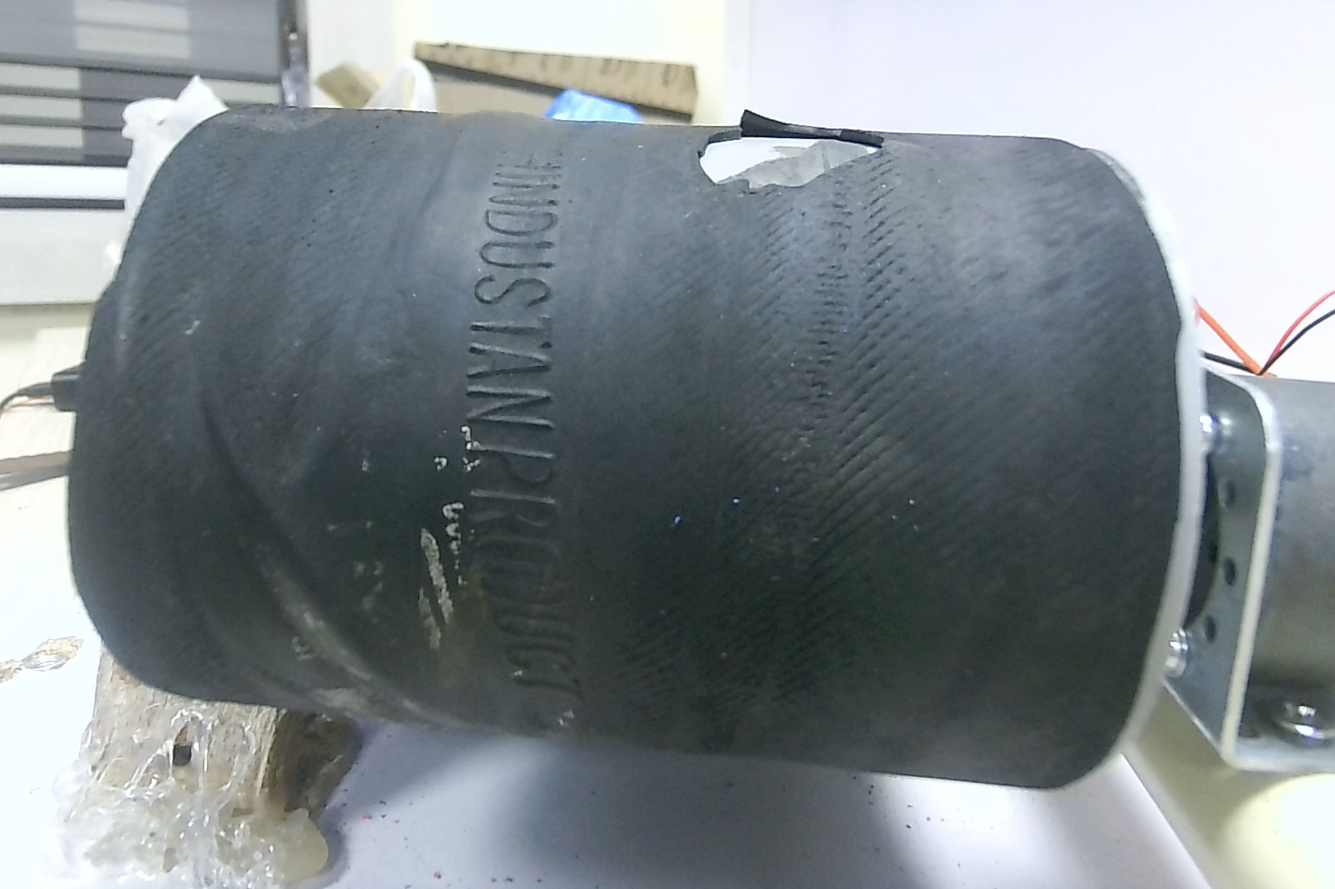hole: (683, 121, 881, 195)
